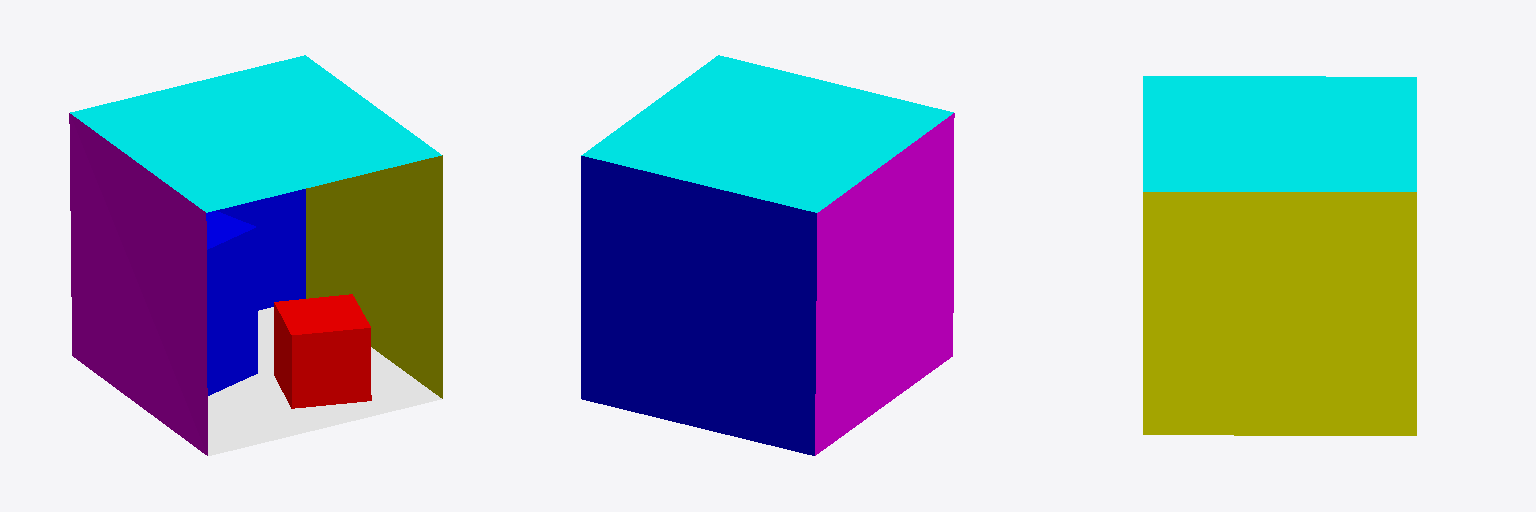
The picture shows the model from 3 angles: view 1: azimuth 30°, elevation 25°; view 2: azimuth 150°, elevation 25°; view 3: azimuth 270°, elevation 25°; orthographic projection.
Visible parts, largest first — view 1: left_wall, ceiling, right_wall, floor, short_box, tall_box, back_wall; view 2: back_wall, left_wall, ceiling; view 3: right_wall, ceiling.
Boxes of the visible parts, box(x1,y1,x2,y2) form: left_wall: box(69, 113, 207, 455); ceiling: box(70, 55, 441, 212); right_wall: box(306, 155, 442, 398); floor: box(208, 307, 441, 455); short_box: box(274, 294, 371, 408); tall_box: box(206, 211, 257, 395); back_wall: box(216, 189, 305, 310); back_wall: box(581, 156, 816, 455); left_wall: box(815, 113, 954, 455); ceiling: box(581, 55, 953, 212); right_wall: box(1143, 192, 1416, 435); ceiling: box(1143, 76, 1416, 191).
Size of the model in its own units: 5.56 by 5.49 by 5.6.